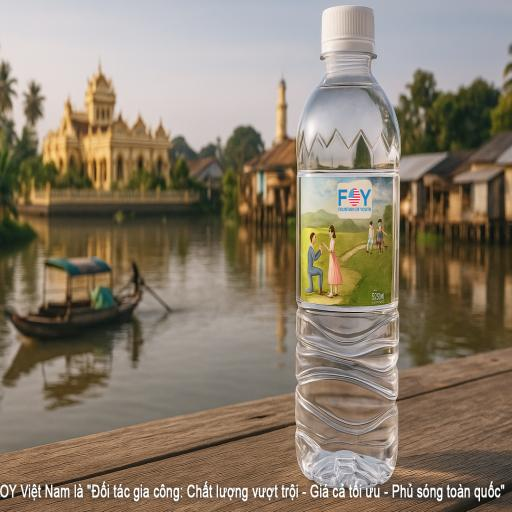bottle: (295, 5, 400, 497)
